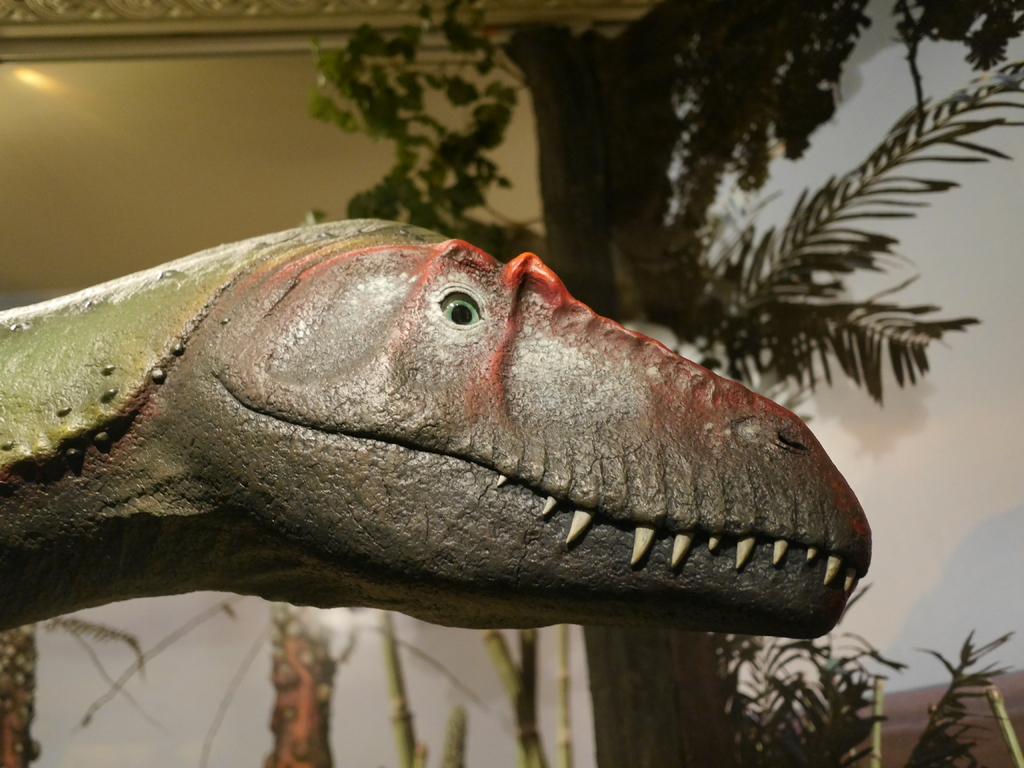Tree: (307, 0, 1023, 768)
